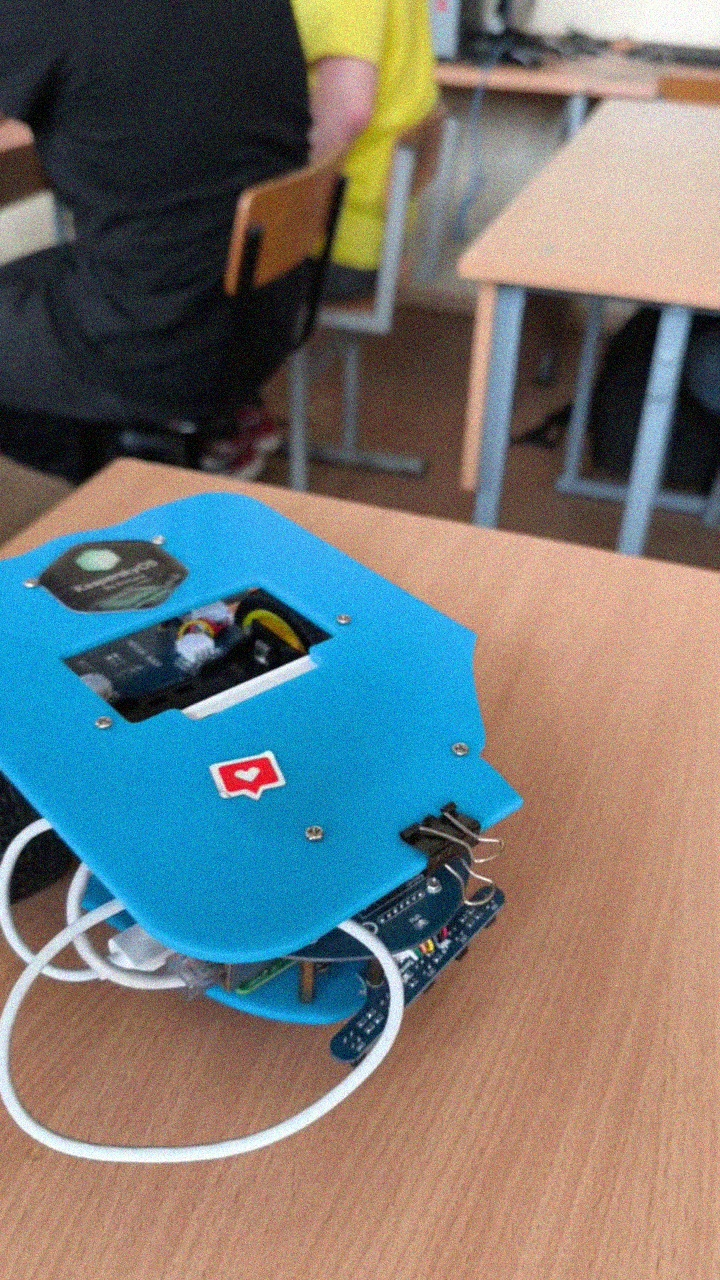robot: (1, 488, 529, 1168)
